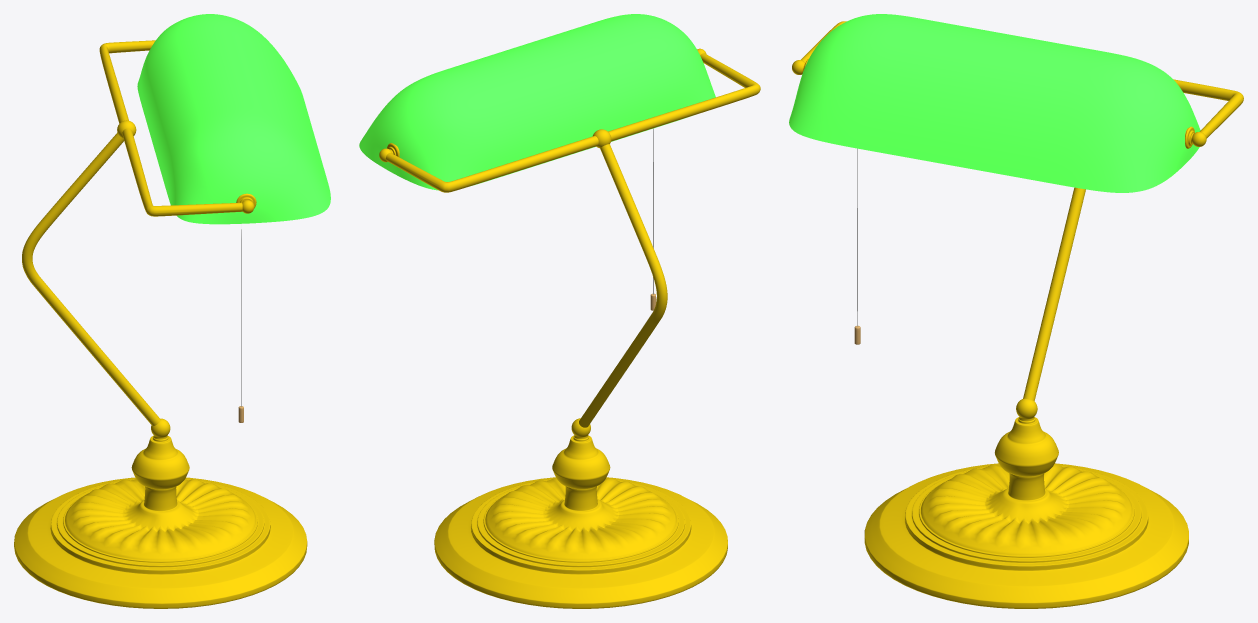
The picture shows the model from 3 angles, left to right: view 1: azimuth 30°, elevation 25°; view 2: azimuth 150°, elevation 25°; view 3: azimuth 270°, elevation 25°; orthographic projection. The views are drawn at different scales.
Parts seen in each view (by area): view 1: Circle, Lamp, Vert.002, Vert.001; view 2: Lamp, Circle, Vert.001, Vert.002; view 3: Lamp, Circle, Vert.002, Vert.001.
Boxes of the visible parts, x1,y1,x2,y2 form: Circle: (14, 418, 307, 608); Lamp: (137, 14, 330, 224); Vert.002: (22, 120, 160, 425); Vert.001: (99, 40, 256, 216); Lamp: (359, 14, 715, 190); Circle: (434, 418, 727, 608); Vert.001: (379, 48, 760, 192); Vert.002: (579, 129, 667, 427); Lamp: (789, 14, 1200, 192); Circle: (864, 398, 1188, 608); Vert.002: (1023, 187, 1085, 400); Vert.001: (792, 21, 1243, 148).
Size of the model in its own units: 0.2649 by 0.402 by 0.3141.
